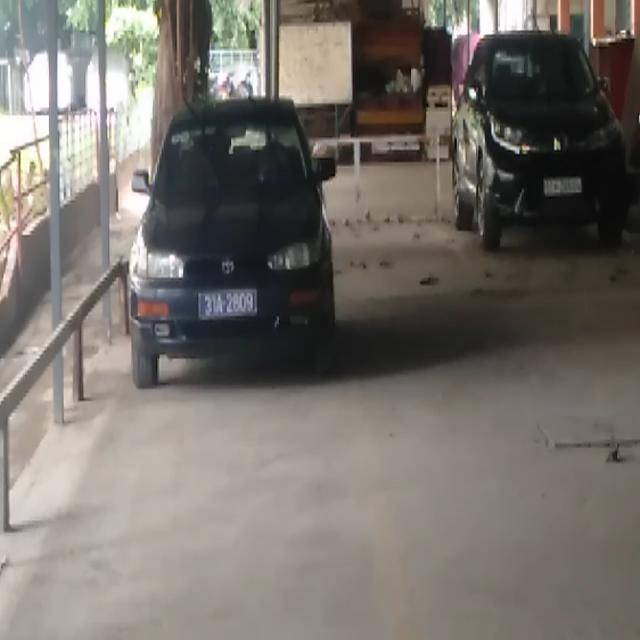bien_xanh: (198, 287, 256, 317)
